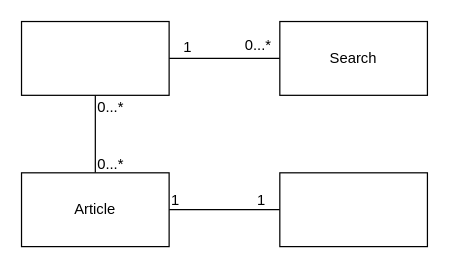
Some shapes in this 449 by 268 pixel diagram are drawn without their labels. The shapes that lost their labels are listed below. From the top down, each one's centre as x and y in pixels, then its label:
the point at 94,57: User
the point at 353,209: Keywords Analysis
